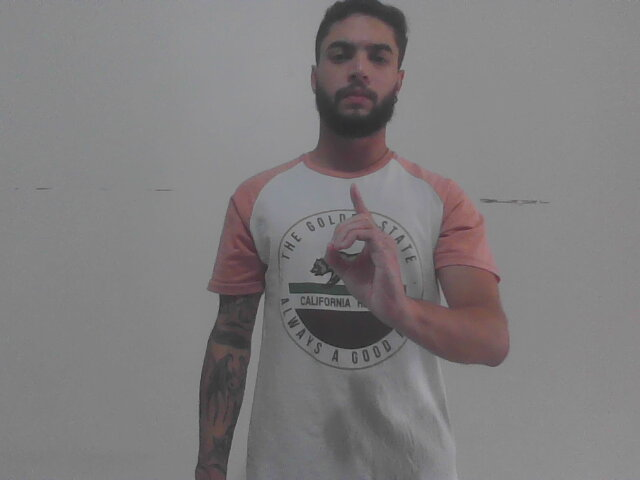d: (319, 178, 410, 328)
